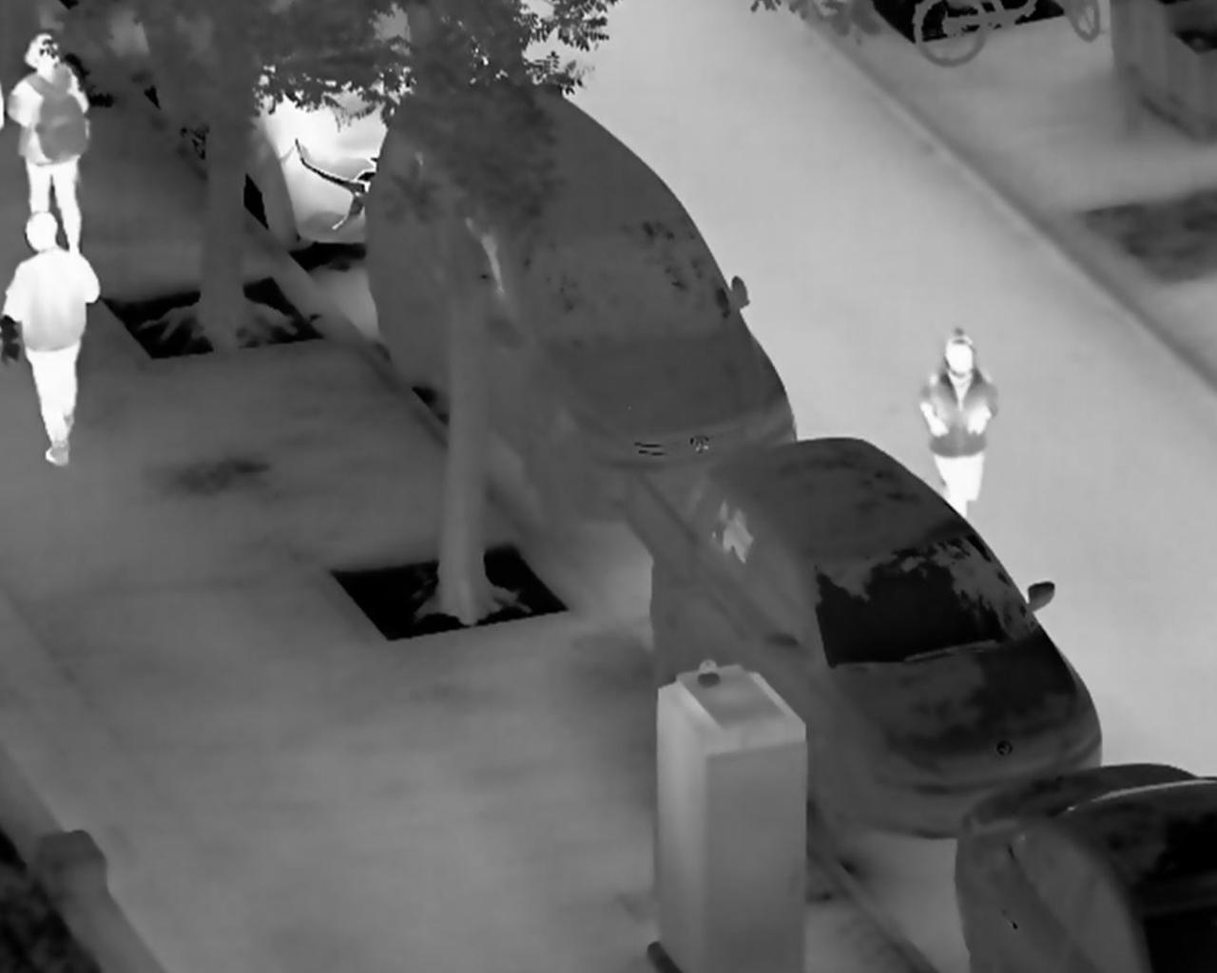person: (2, 211, 102, 467), (2, 34, 93, 255), (915, 327, 999, 522)
